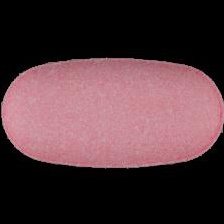59762-5017: (0, 0, 224, 224)
